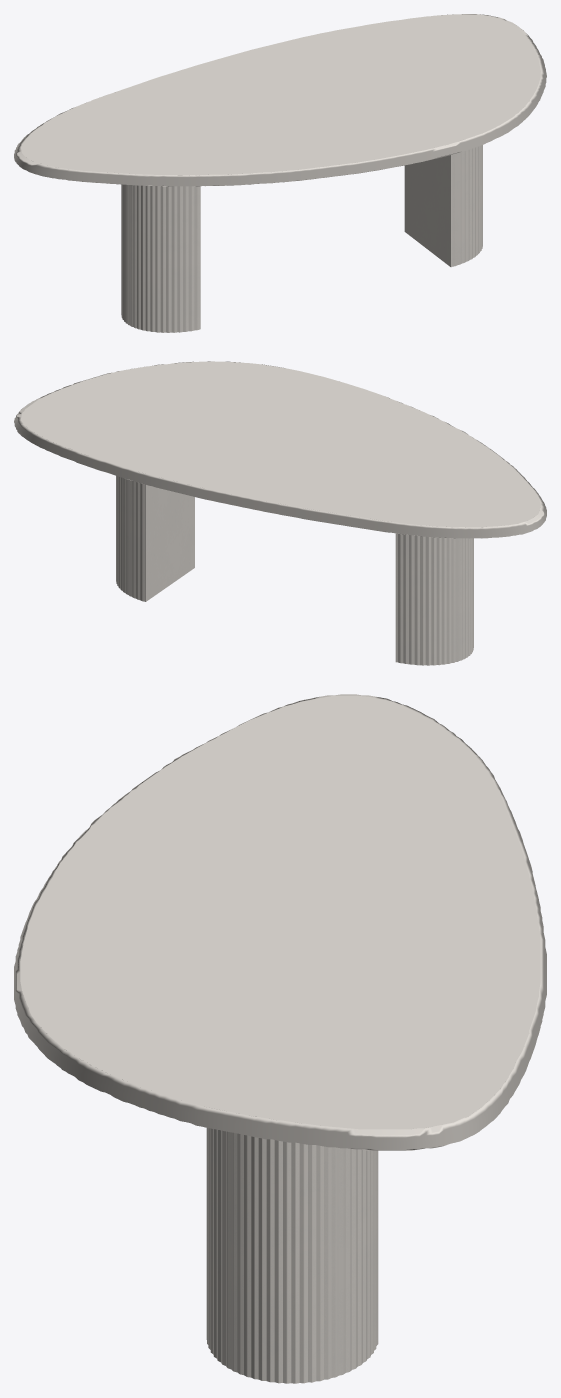
File: pearlwhite_pebbletop_round_flute.glb
3 views of the same model, one above another, from view 1: azimuth 30°, elevation 25°; view 2: azimuth 150°, elevation 25°; view 3: azimuth 270°, elevation 25° (orthographic). The views are drawn at different scales.
Parts seen in each view (by area): view 1: round_pebbletop, flute; view 2: round_pebbletop, flute; view 3: round_pebbletop, flute.
Part boxes in pixels (x1,y1,x2,y2): round_pebbletop: (14,14,546,186); flute: (121,145,482,332); round_pebbletop: (14,361,546,538); flute: (116,476,473,665); round_pebbletop: (14,694,546,1150); flute: (206,1128,378,1383).
Size of the model in its own units: 7.69 by 2.5 by 3.89.
Materials: 1 (1 with a texture image).
